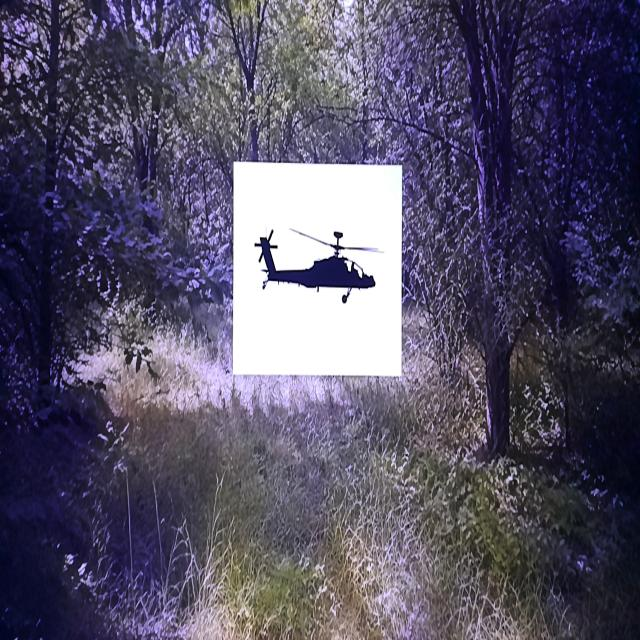Apache friendly: (255, 229, 381, 302)
